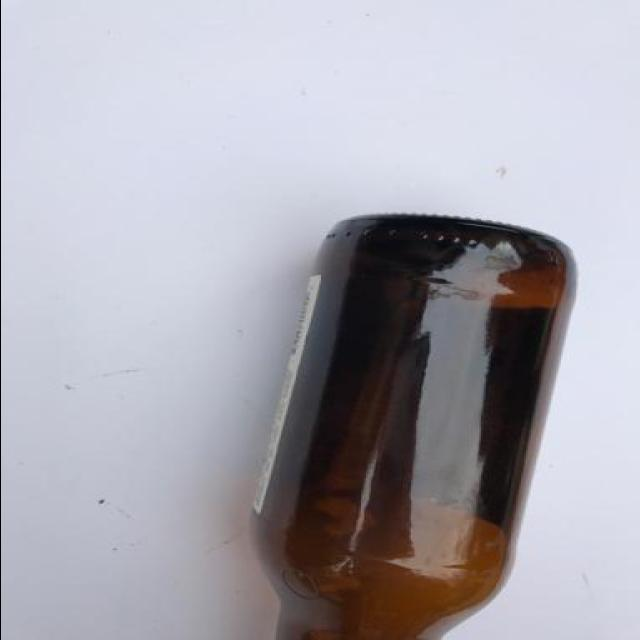Glass Bottle: (244, 215, 578, 639)
